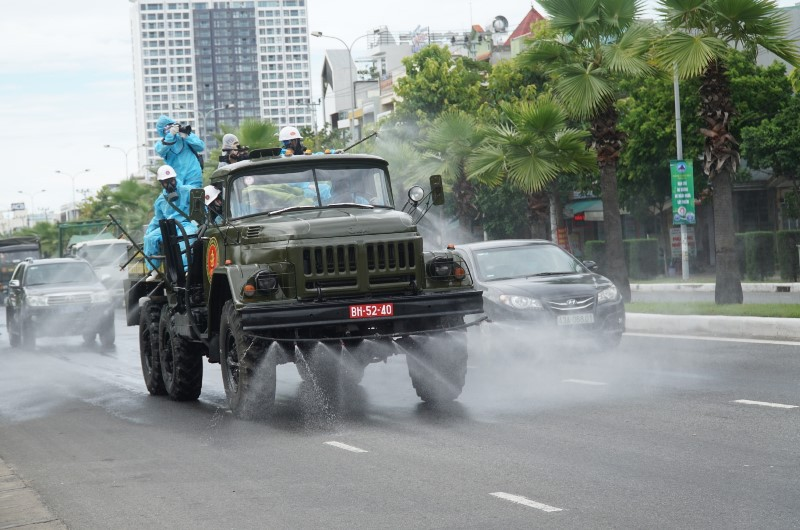plate: (350, 302, 393, 323), (555, 311, 596, 324)
